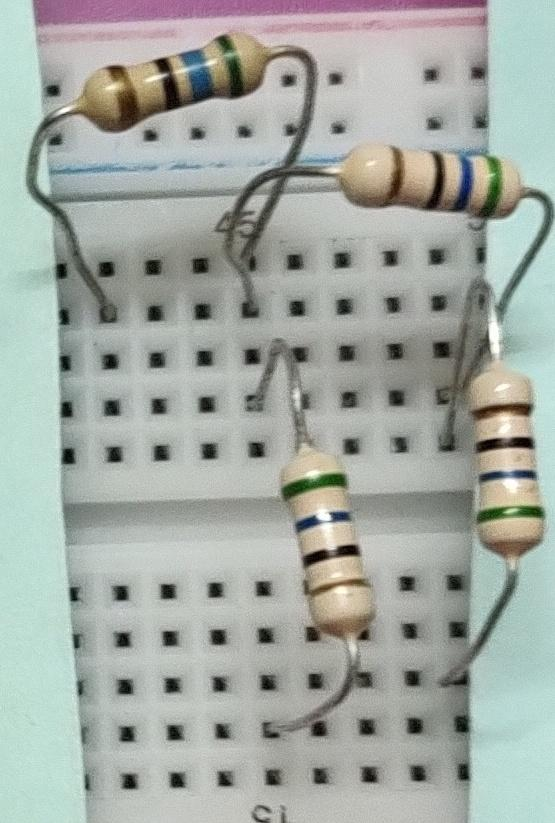resistor: (65, 7, 277, 139), (263, 430, 389, 650), (334, 134, 539, 242), (454, 350, 555, 568)
